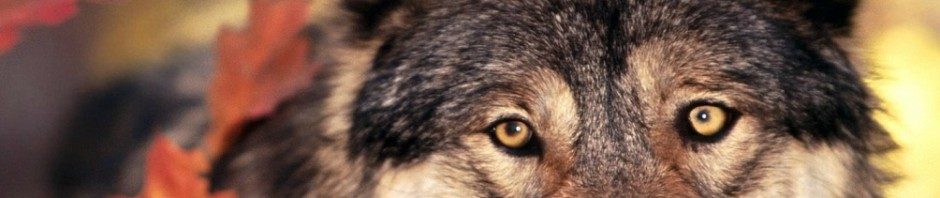Lobo: (351, 1, 910, 198)
